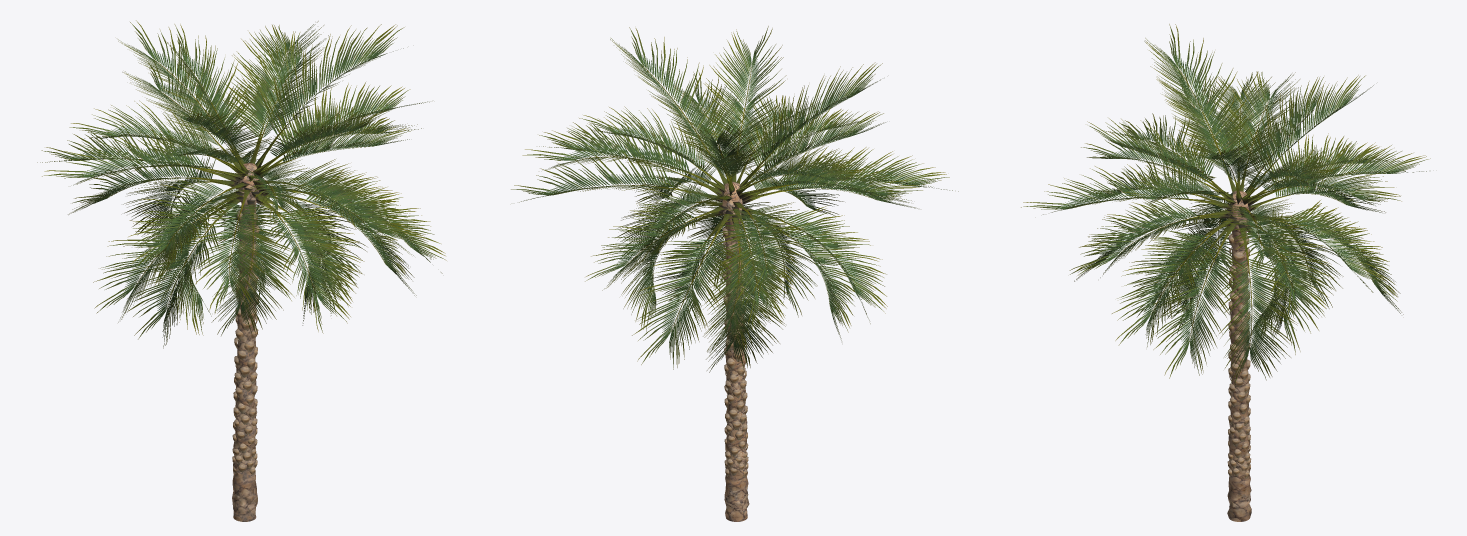
File: palm.glb
3 renders of one model, left to right at view 1: azimuth 30°, elevation 25°; view 2: azimuth 150°, elevation 25°; view 3: azimuth 270°, elevation 25°, orthographic. The views are drawn at different scales.
Parts seen in each view (by area): view 1: Tree_1_Tree_1Mat_0, Tree_0_Tree_0Mat_0, Tree_3_Tree_3Mat_0, Tree_2_Tree_2Mat_0; view 2: Tree_1_Tree_1Mat_0, Tree_0_Tree_0Mat_0, Tree_3_Tree_3Mat_0, Tree_2_Tree_2Mat_0; view 3: Tree_1_Tree_1Mat_0, Tree_0_Tree_0Mat_0, Tree_2_Tree_2Mat_0, Tree_3_Tree_3Mat_0.
Boxes of the visible parts, x1,y1,x2,y2 form: Tree_1_Tree_1Mat_0: (37, 20, 446, 348); Tree_0_Tree_0Mat_0: (232, 163, 259, 521); Tree_3_Tree_3Mat_0: (176, 116, 322, 244); Tree_2_Tree_2Mat_0: (232, 210, 259, 474); Tree_1_Tree_1Mat_0: (511, 26, 958, 372); Tree_0_Tree_0Mat_0: (722, 181, 749, 521); Tree_3_Tree_3Mat_0: (654, 135, 799, 267); Tree_2_Tree_2Mat_0: (722, 227, 748, 477); Tree_1_Tree_1Mat_0: (1021, 24, 1430, 385); Tree_0_Tree_0Mat_0: (1227, 191, 1251, 521); Tree_2_Tree_2Mat_0: (1227, 234, 1251, 478); Tree_3_Tree_3Mat_0: (1169, 143, 1309, 277).
Bounding box in the file's own units: 737 × 771 × 704.
Materials: 4 (4 with a texture image).
